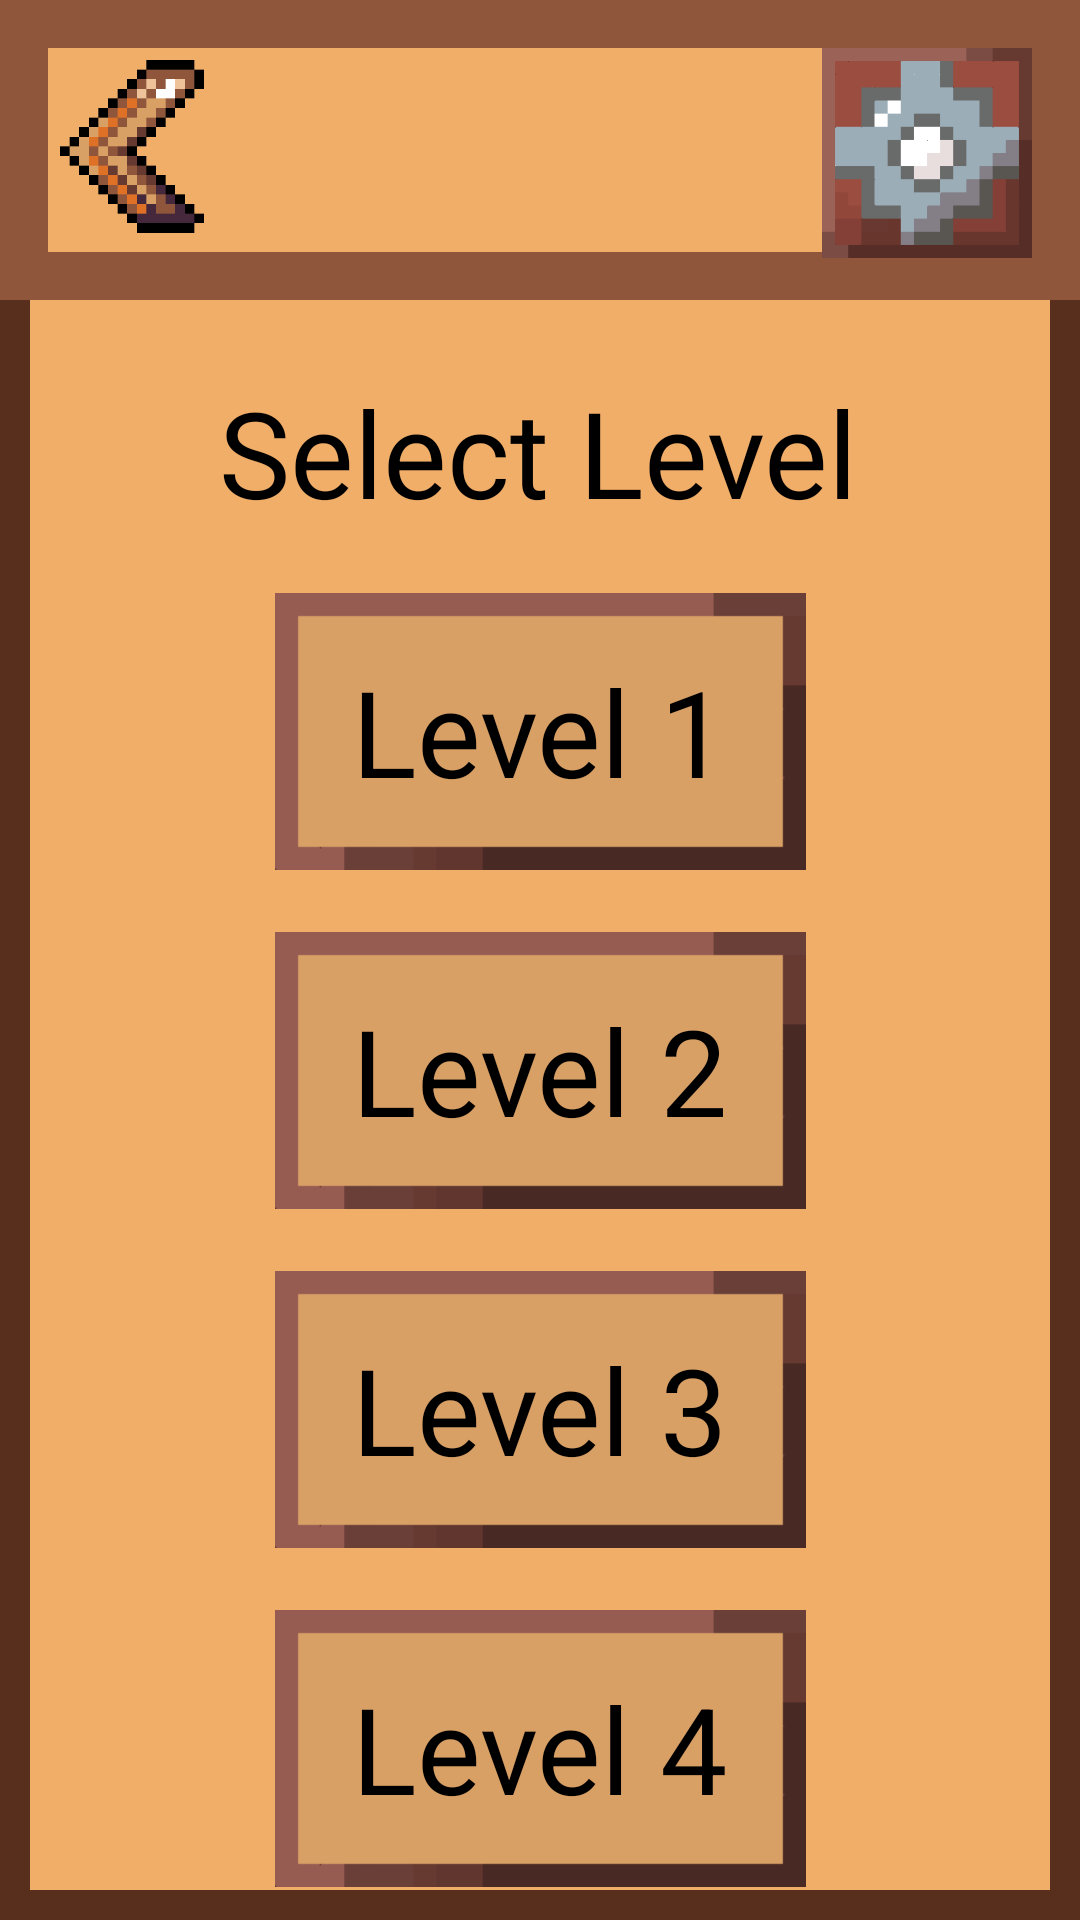

Screen size 1080 x 1920. Icon name, then its box in pixels as (x1, y1, x2, y2):
back: (60, 60, 204, 233)
settings: (822, 48, 1032, 258)
